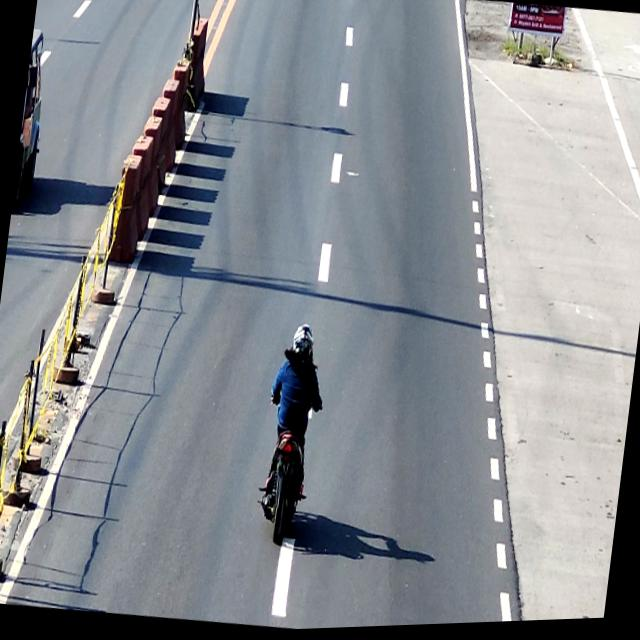Car: (12, 27, 54, 209)
Motorcycle: (254, 370, 322, 546)
